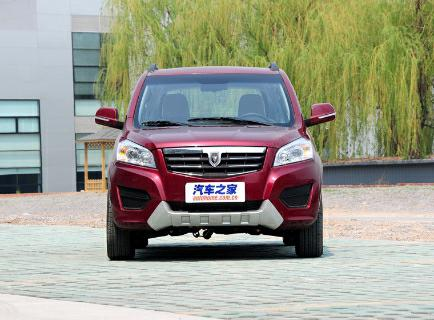金杯-智尚S30: (94, 60, 339, 267)
